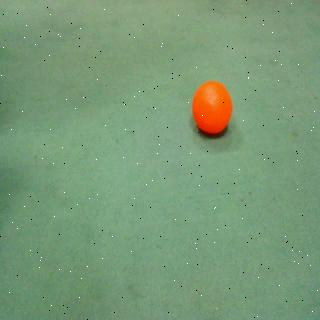orange: (190, 77, 236, 141)
